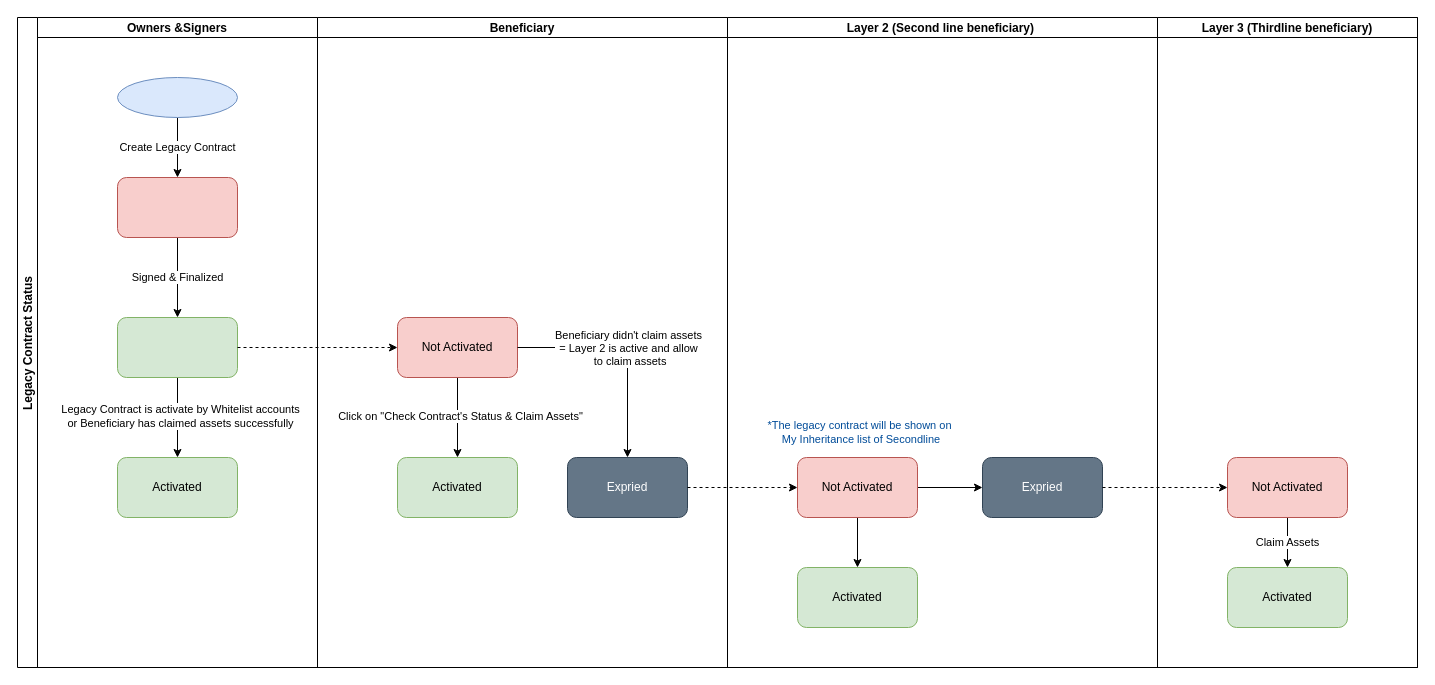
Image size: 1435x685. Some labels were removed from this diagram. The shapes that lost their labels are listed below. From the top down, each one's centre as x and y in pixels, then its label:
At point 177,97: "Start".
At point 177,207: "Signature Needed".
At point 177,347: "Live".
